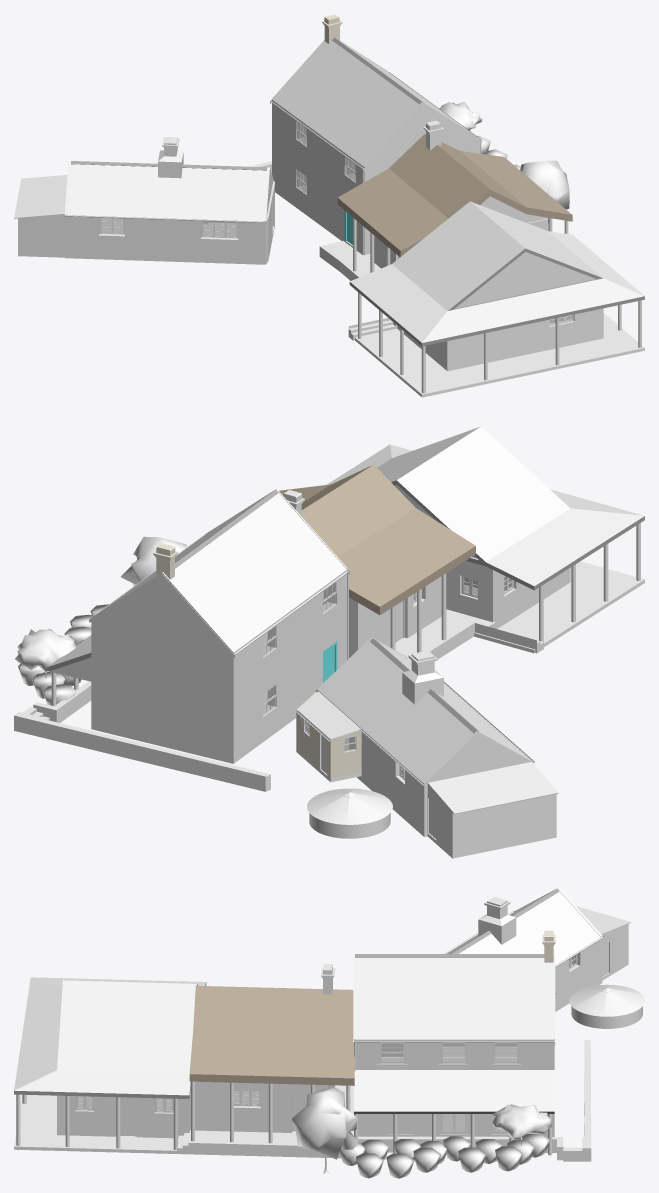
The model's file is house.glb.
3 renders of one model, top to bottom at view 1: azimuth 30°, elevation 25°; view 2: azimuth 150°, elevation 25°; view 3: azimuth 270°, elevation 25°, orthographic. The views are drawn at different scales.
Visible parts, largest first — view 1: main_house_mesh; view 2: main_house_mesh; view 3: main_house_mesh.
Boxes of the visible parts, x1,y1,x2,y2 form: main_house_mesh: (14,14,644,397); main_house_mesh: (14,426,644,858); main_house_mesh: (14,887,644,1178).
Size of the model in its own units: 9.94 by 3.47 by 10.78.
